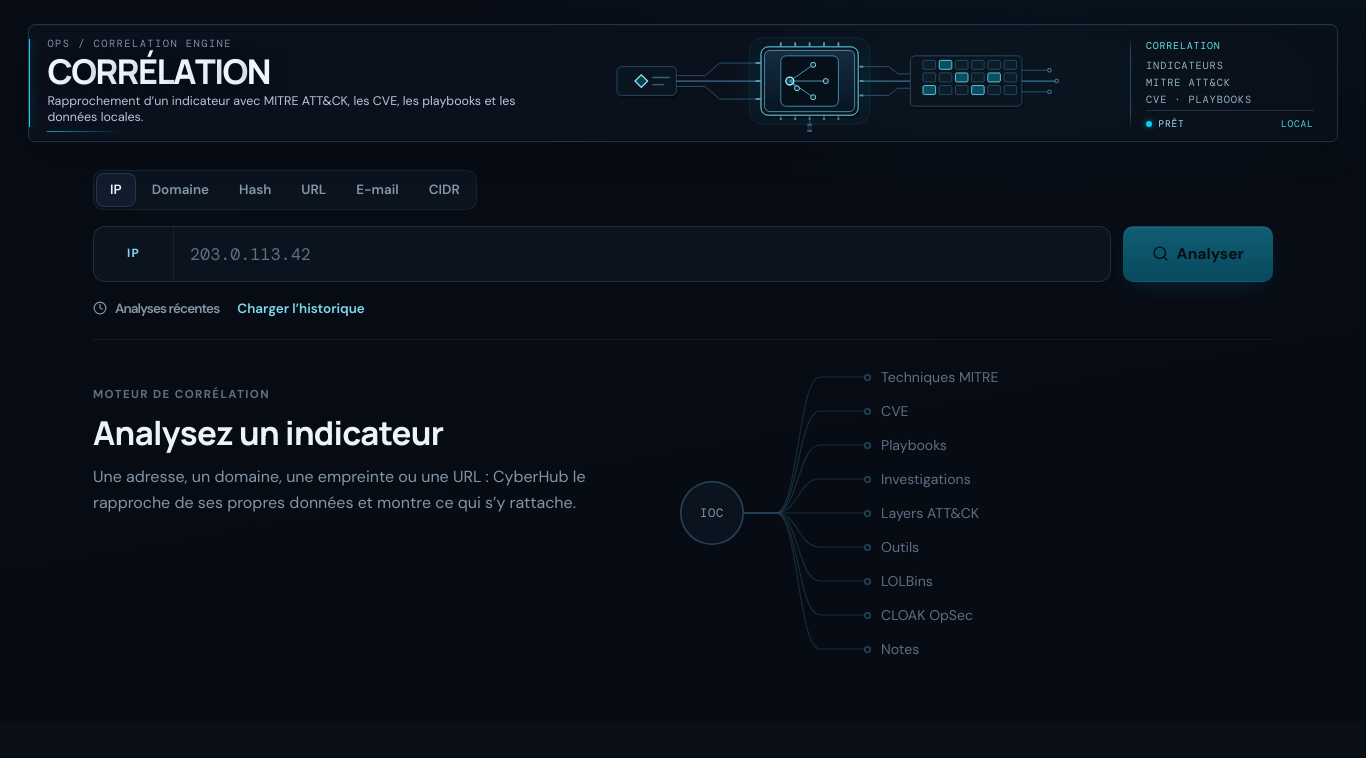
Test: Corrélation 2026 › affiche un résultat complet : indicateur, confiance, techniques MITRE et groupes
The image size is (1366, 758).
Step 1. Type " 203.0.113.42 " into the field named "Valeur de l’indicateur" → coordinates (638, 254), box left=174, top=227, right=1102, bottom=281
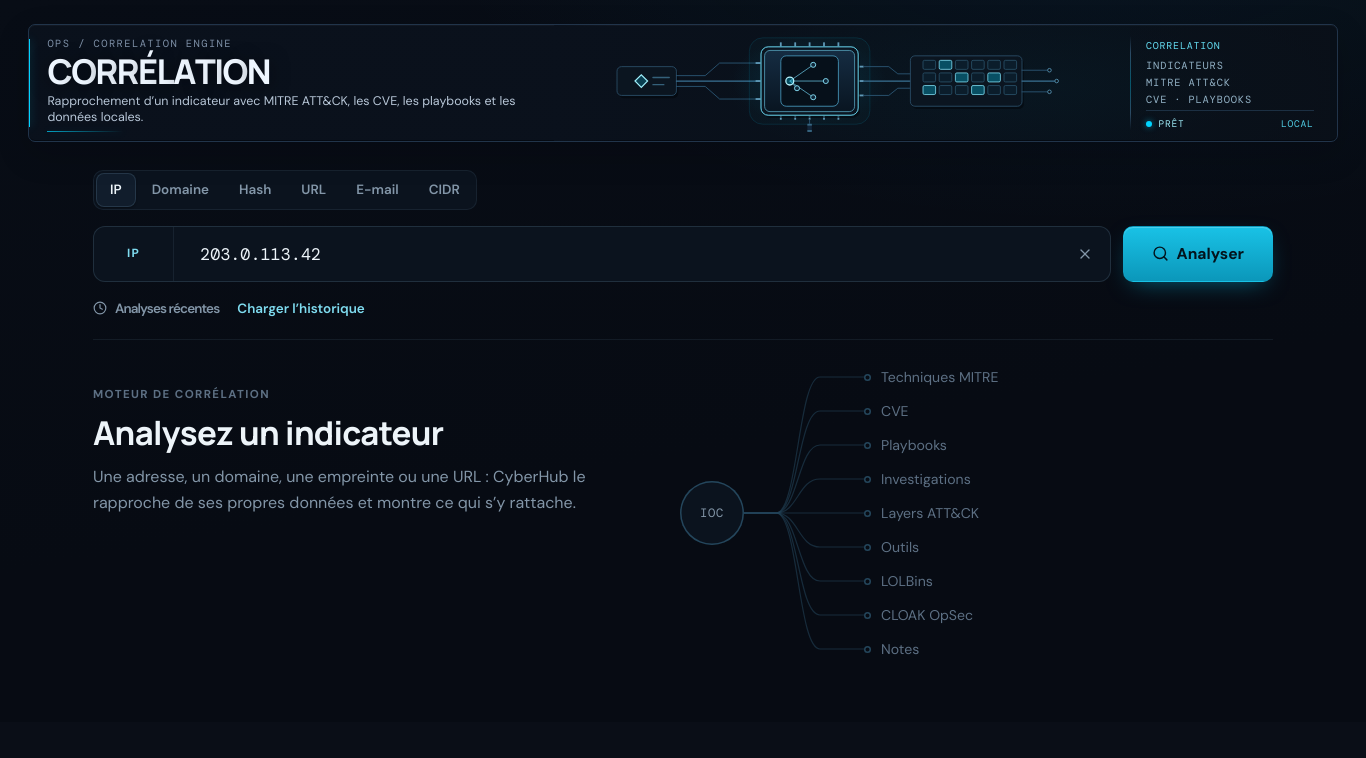
Step 2. Click the button "Analyser" → coordinates (1198, 254), box left=1123, top=226, right=1273, bottom=282
(page scrolled)
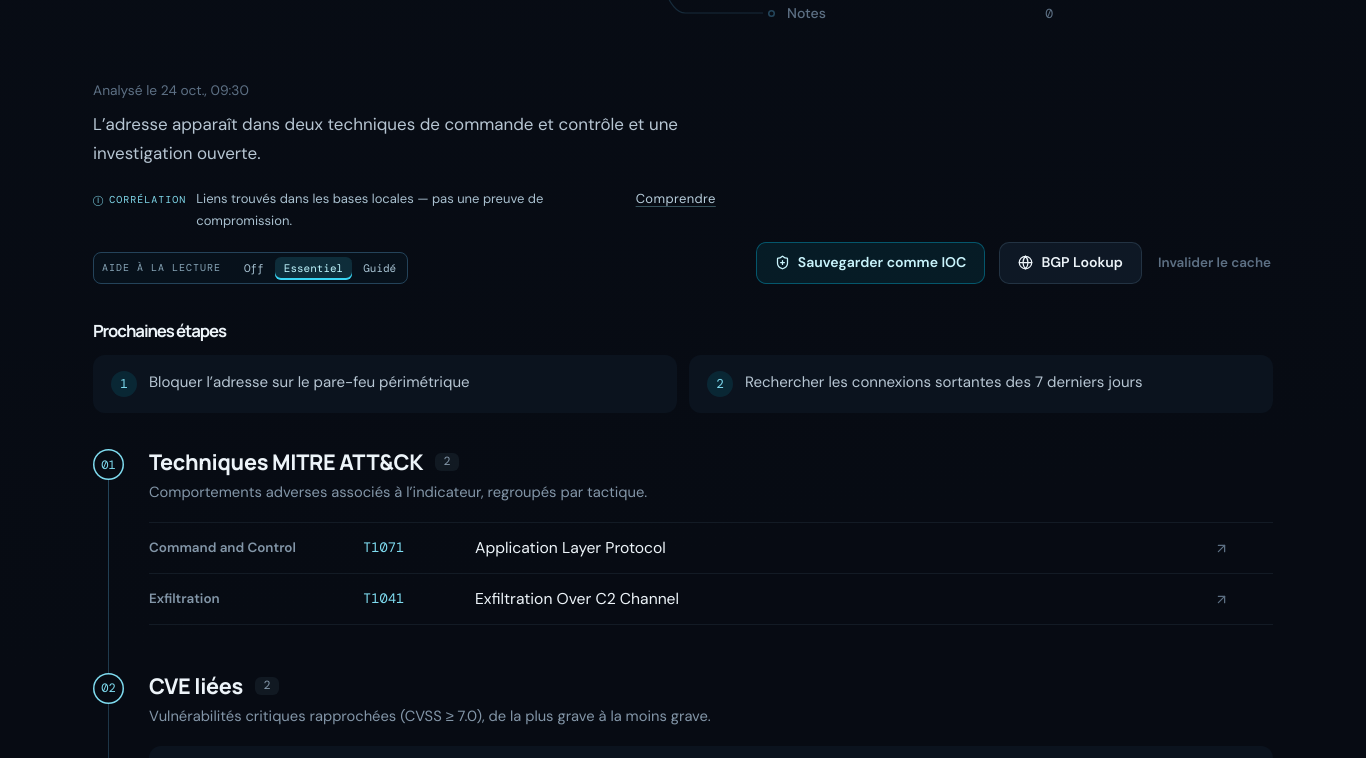
Check: the heading "Command and Control" is shown, box left=149, top=539, right=296, bottom=556
Check: the list item "Bloquer l’adresse sur le pare-feu périmétrique" is shown, box left=149, top=372, right=470, bottom=392
